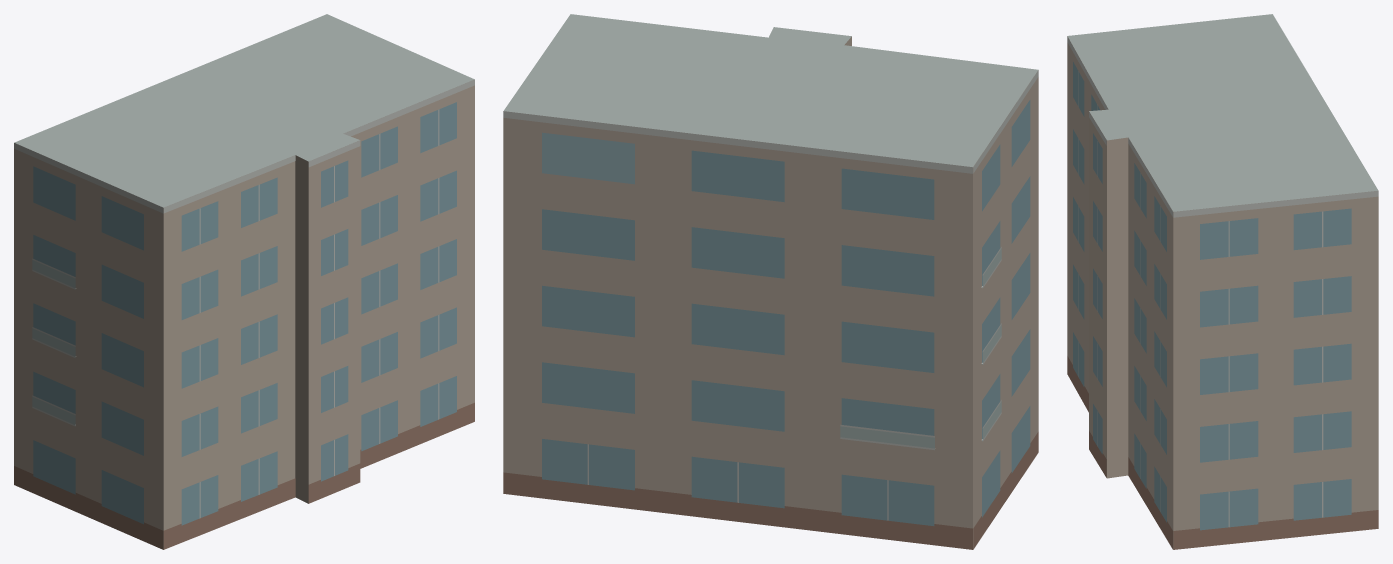
File: survey-upis-32767974.glb
The picture shows the model from 3 angles, left to right: view 1: azimuth 30°, elevation 25°; view 2: azimuth 150°, elevation 25°; view 3: azimuth 270°, elevation 25°; orthographic projection. The views are drawn at different scales.
Visible parts, largest first — view 1: survey-upis-32767974.tmp; view 2: survey-upis-32767974.tmp; view 3: survey-upis-32767974.tmp.
Boxes of the visible parts, x1,y1,x2,y2 form: survey-upis-32767974.tmp: (14,14,474,549); survey-upis-32767974.tmp: (503,14,1038,549); survey-upis-32767974.tmp: (1067,14,1378,549).
Size of the model in its own units: 17.59 by 14.01 by 11.7.
